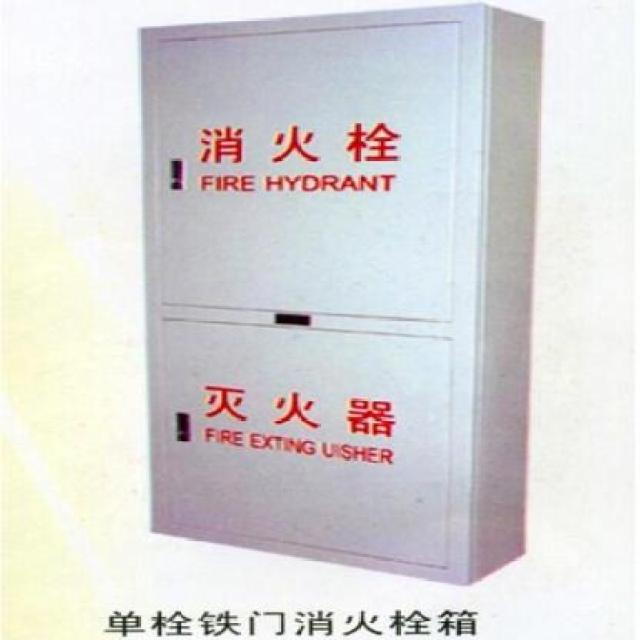firehydrant: (129, 0, 550, 593)
